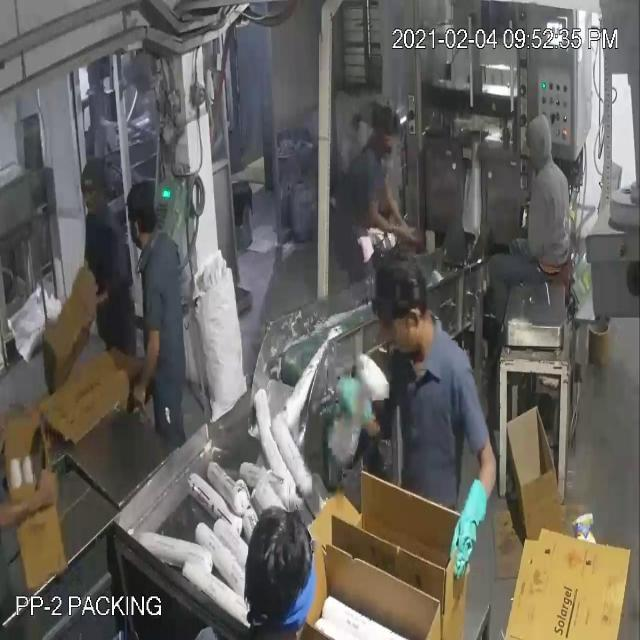No_Gloves: (35, 55, 464, 524)
